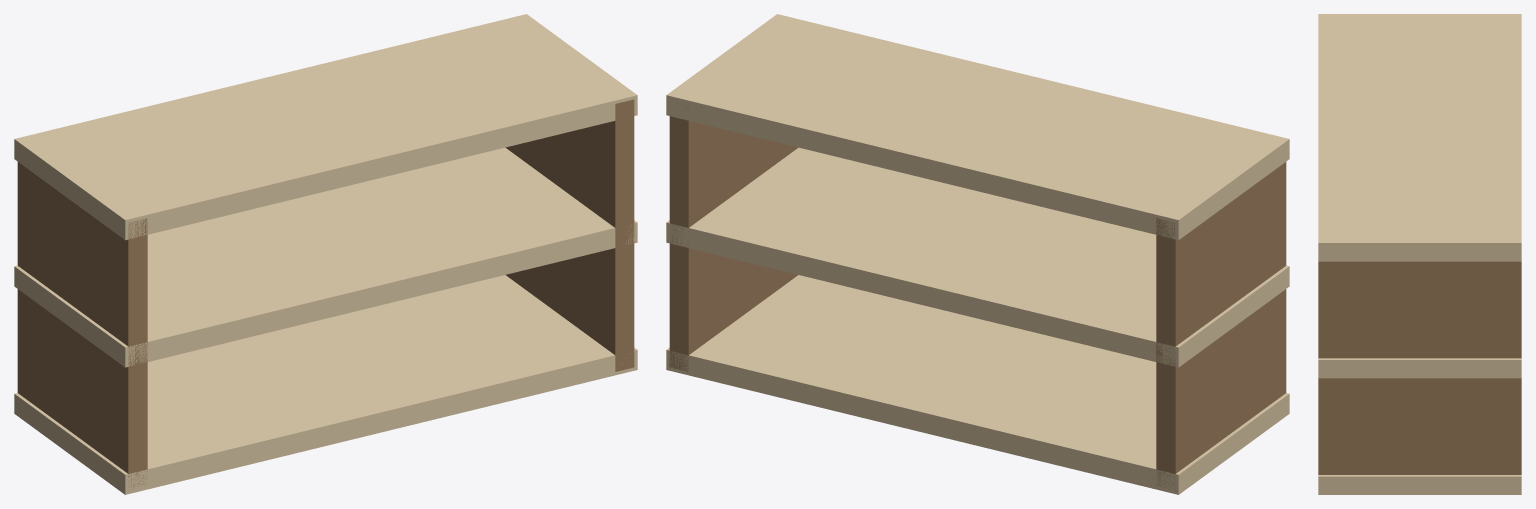
File: shoe_rack.glb
3 views of the same model, side by side, from view 1: azimuth 30°, elevation 25°; view 2: azimuth 150°, elevation 25°; view 3: azimuth 270°, elevation 25° (orthographic). The views are drawn at different scales.
Visible parts, largest first — view 1: shelves, sides; view 2: shelves, sides; view 3: shelves, sides.
Part boxes in pixels (x1,y1,x2,y2): shelves: (14, 14, 637, 494); sides: (17, 99, 634, 490); shelves: (666, 14, 1289, 494); sides: (669, 103, 1286, 490); shelves: (1318, 14, 1521, 494); sides: (1318, 261, 1521, 474).
Bounding box in the file's own units: 0.8 × 0.41 × 0.3.
